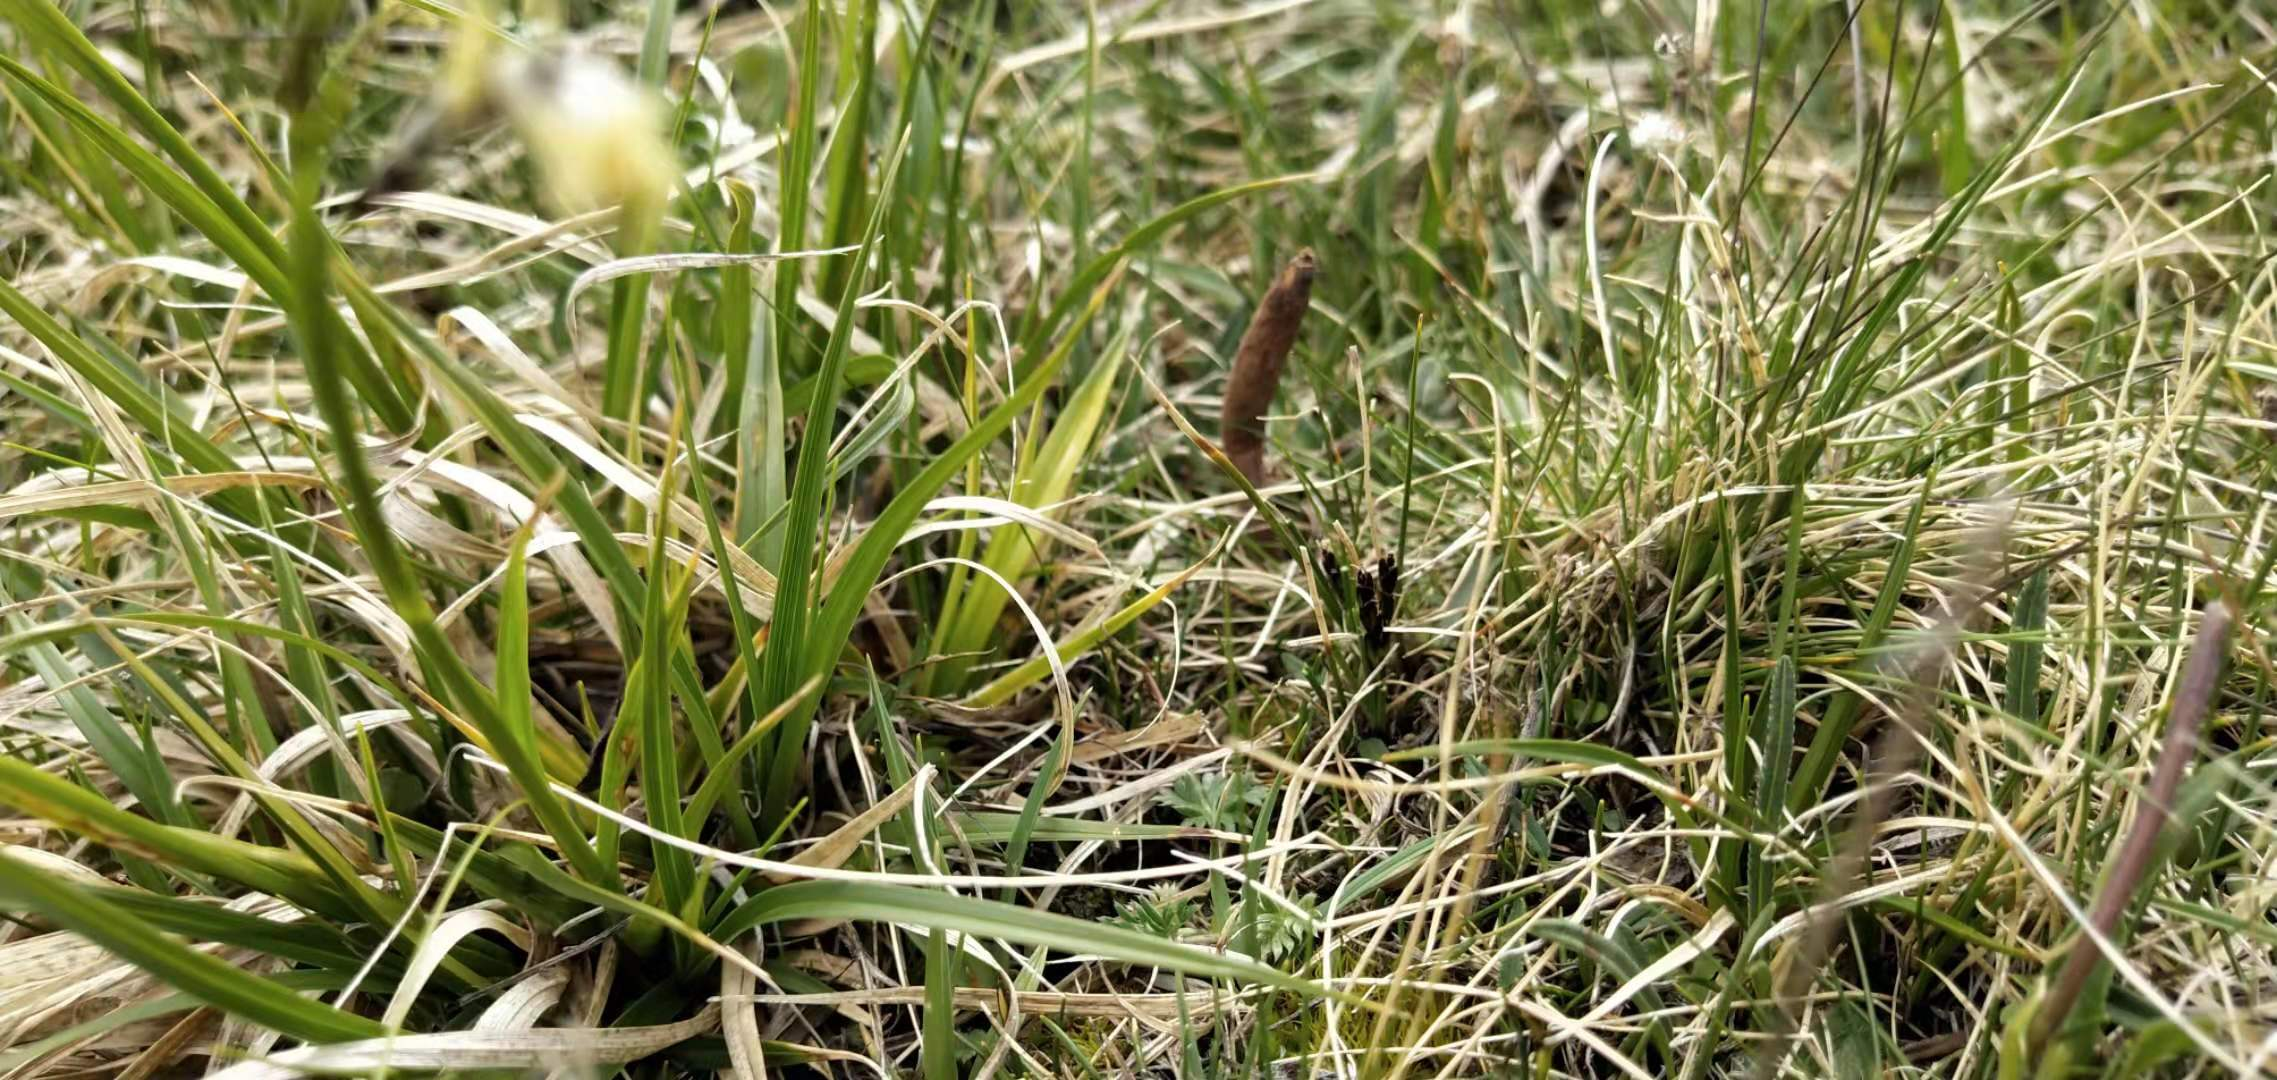Chongcao: (1221, 244, 1317, 494)
